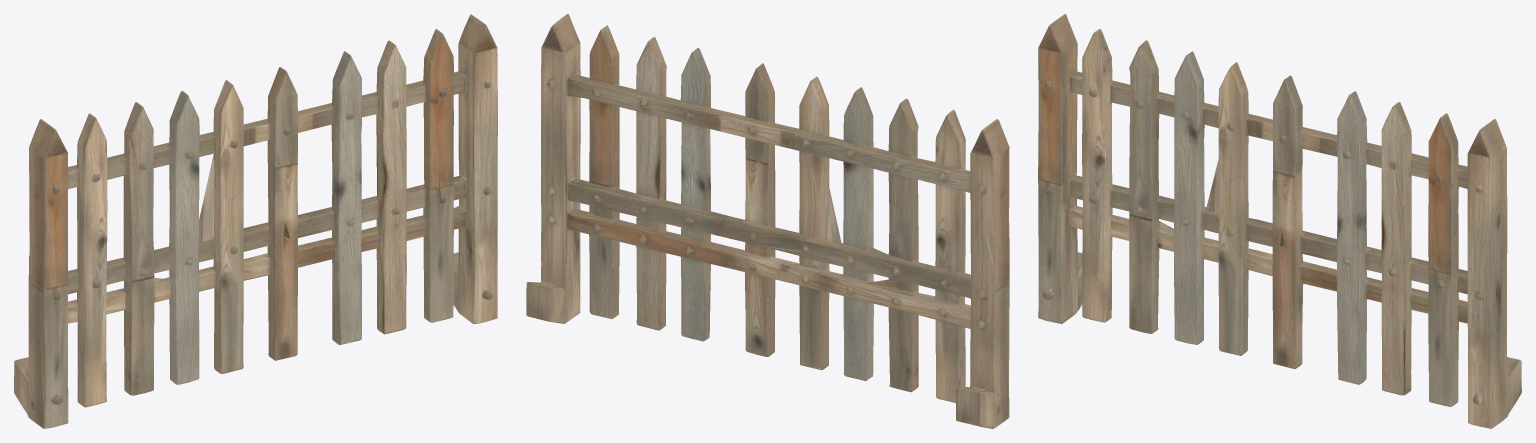
The model's file is picket_fence.glb.
3 renders of one model, left to right at view 1: azimuth 30°, elevation 25°; view 2: azimuth 150°, elevation 25°; view 3: azimuth 330°, elevation 25°, orthographic.
Bounding box in the file's own units: 1.9 × 1.19 × 0.2518.
Materials: 1 (1 with a texture image).
